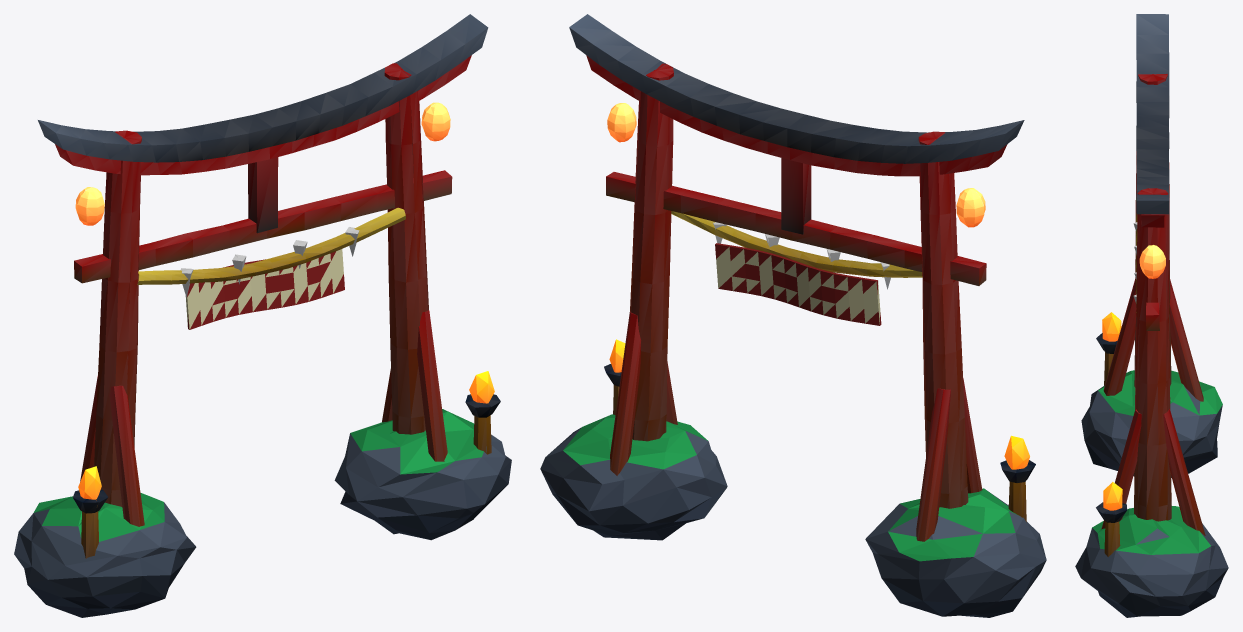
File: riverrush_torii_gate_kinect_2010360 (3).glb
3 renders of one model, left to right at view 1: azimuth 30°, elevation 25°; view 2: azimuth 150°, elevation 25°; view 3: azimuth 270°, elevation 25°, orthographic. The views are drawn at different scales.
Parts seen in each view (by area): view 1: Gerbang_Checkpoint_Kayu_Jepang; view 2: Gerbang_Checkpoint_Kayu_Jepang; view 3: Gerbang_Checkpoint_Kayu_Jepang.
Boxes of the visible parts, box(x1,y1,x2,y2) form: Gerbang_Checkpoint_Kayu_Jepang: box(14, 14, 511, 617); Gerbang_Checkpoint_Kayu_Jepang: box(540, 14, 1046, 617); Gerbang_Checkpoint_Kayu_Jepang: box(1075, 14, 1228, 617).
Size of the model in its own units: 10.1 by 10.08 by 3.22.
